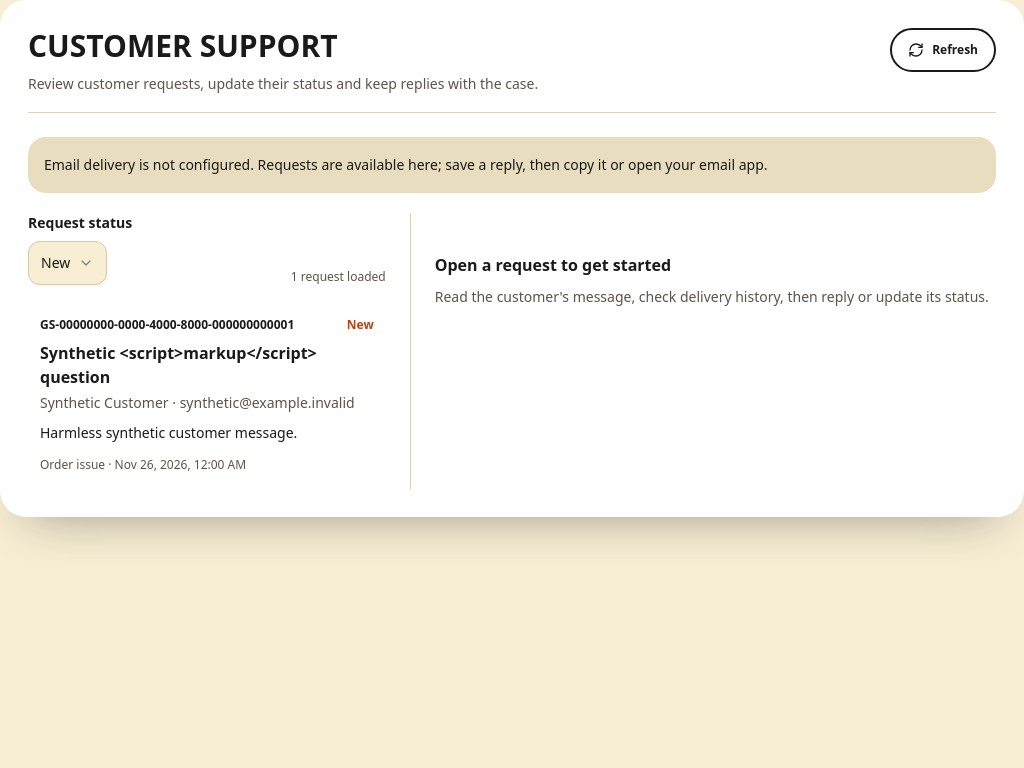
Administrative support UI › removes private support query data when the panel unmounts
Click the button with aria-label "Open GS-" at [207, 395], box [28,301,386,489]
(page scrolled)
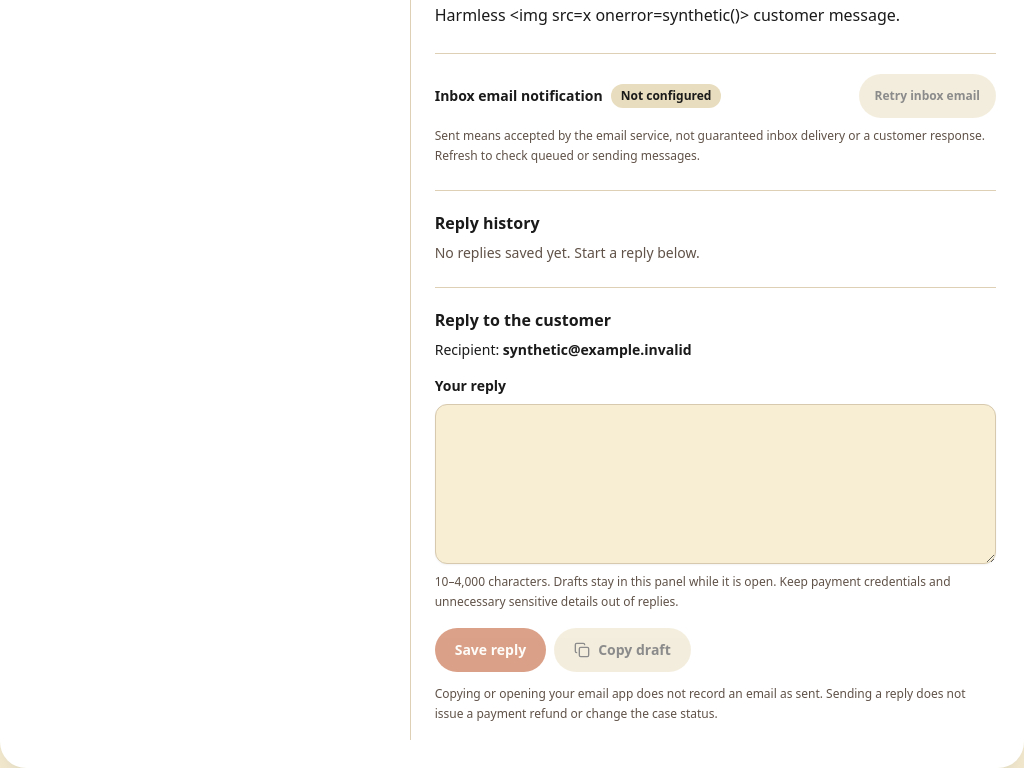
Expected: the text box labelled "Your reply" is shown, [435,404,996,564]
